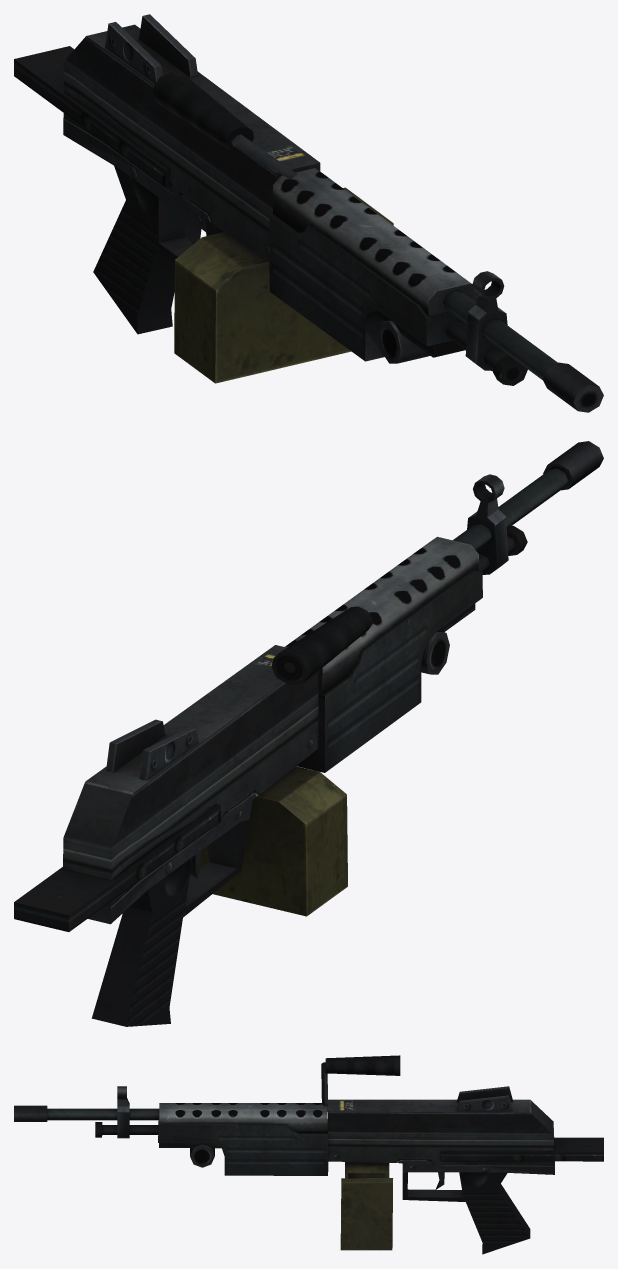
The picture shows the model from 3 angles, top to bottom: view 1: azimuth 30°, elevation 25°; view 2: azimuth 150°, elevation 25°; view 3: azimuth 270°, elevation 25°; orthographic projection. The views are drawn at different scales.
Parts seen in each view (by area): view 1: SMDImporter.Mesh.w_mach_m249para_w_mach_m249; view 2: SMDImporter.Mesh.w_mach_m249para_w_mach_m249; view 3: SMDImporter.Mesh.w_mach_m249para_w_mach_m249.
Part boxes in pixels (x1=…): SMDImporter.Mesh.w_mach_m249para_w_mach_m249: x1=14, y1=14, x2=603, y2=412; SMDImporter.Mesh.w_mach_m249para_w_mach_m249: x1=14, y1=441, x2=603, y2=1026; SMDImporter.Mesh.w_mach_m249para_w_mach_m249: x1=14, y1=1055, x2=603, y2=1254.
Bounding box in the file's own units: 18.24 × 30.77 × 93.07.
